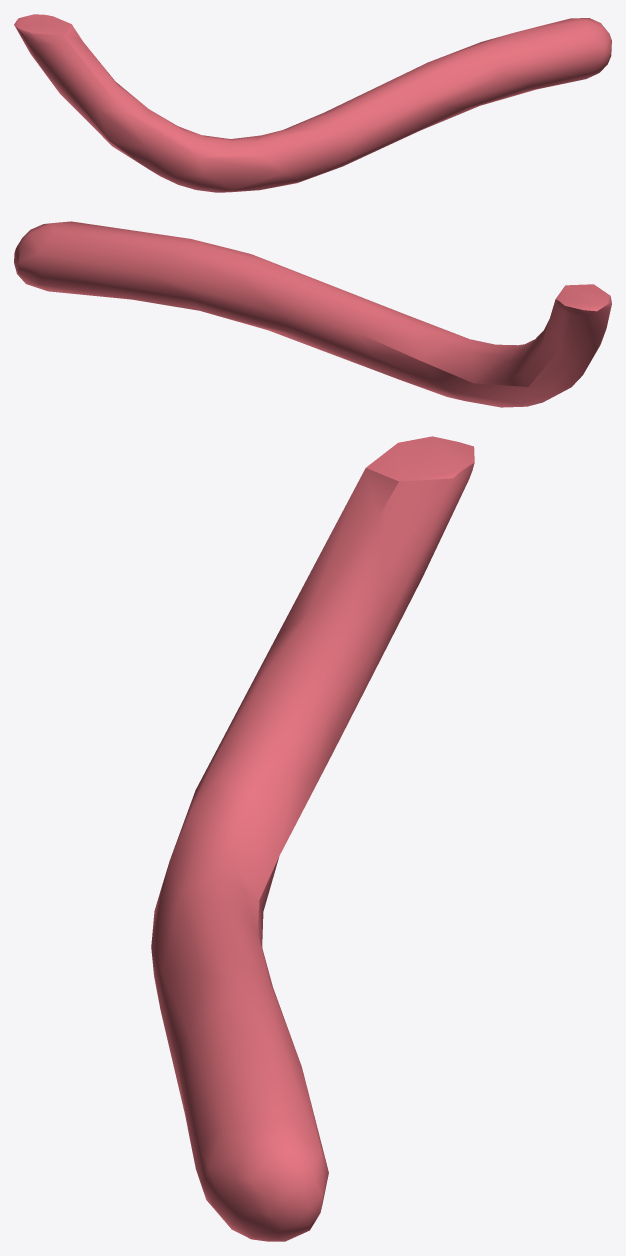
The model's file is fma81008_fj2309.glb.
3 views of the same model, one above another, from view 1: azimuth 30°, elevation 25°; view 2: azimuth 150°, elevation 25°; view 3: azimuth 270°, elevation 25° (orthographic). The views are drawn at different scales.
Visible parts, largest first — view 1: FMA81008_FJ2309; view 2: FMA81008_FJ2309; view 3: FMA81008_FJ2309.
Boxes of the visible parts, <box> form: FMA81008_FJ2309: <box>14,14,611,192</box>; FMA81008_FJ2309: <box>14,221,611,407</box>; FMA81008_FJ2309: <box>151,436,474,1241</box>.
Bounding box in the file's own units: 0.0199 × 0.00573 × 0.00507.
